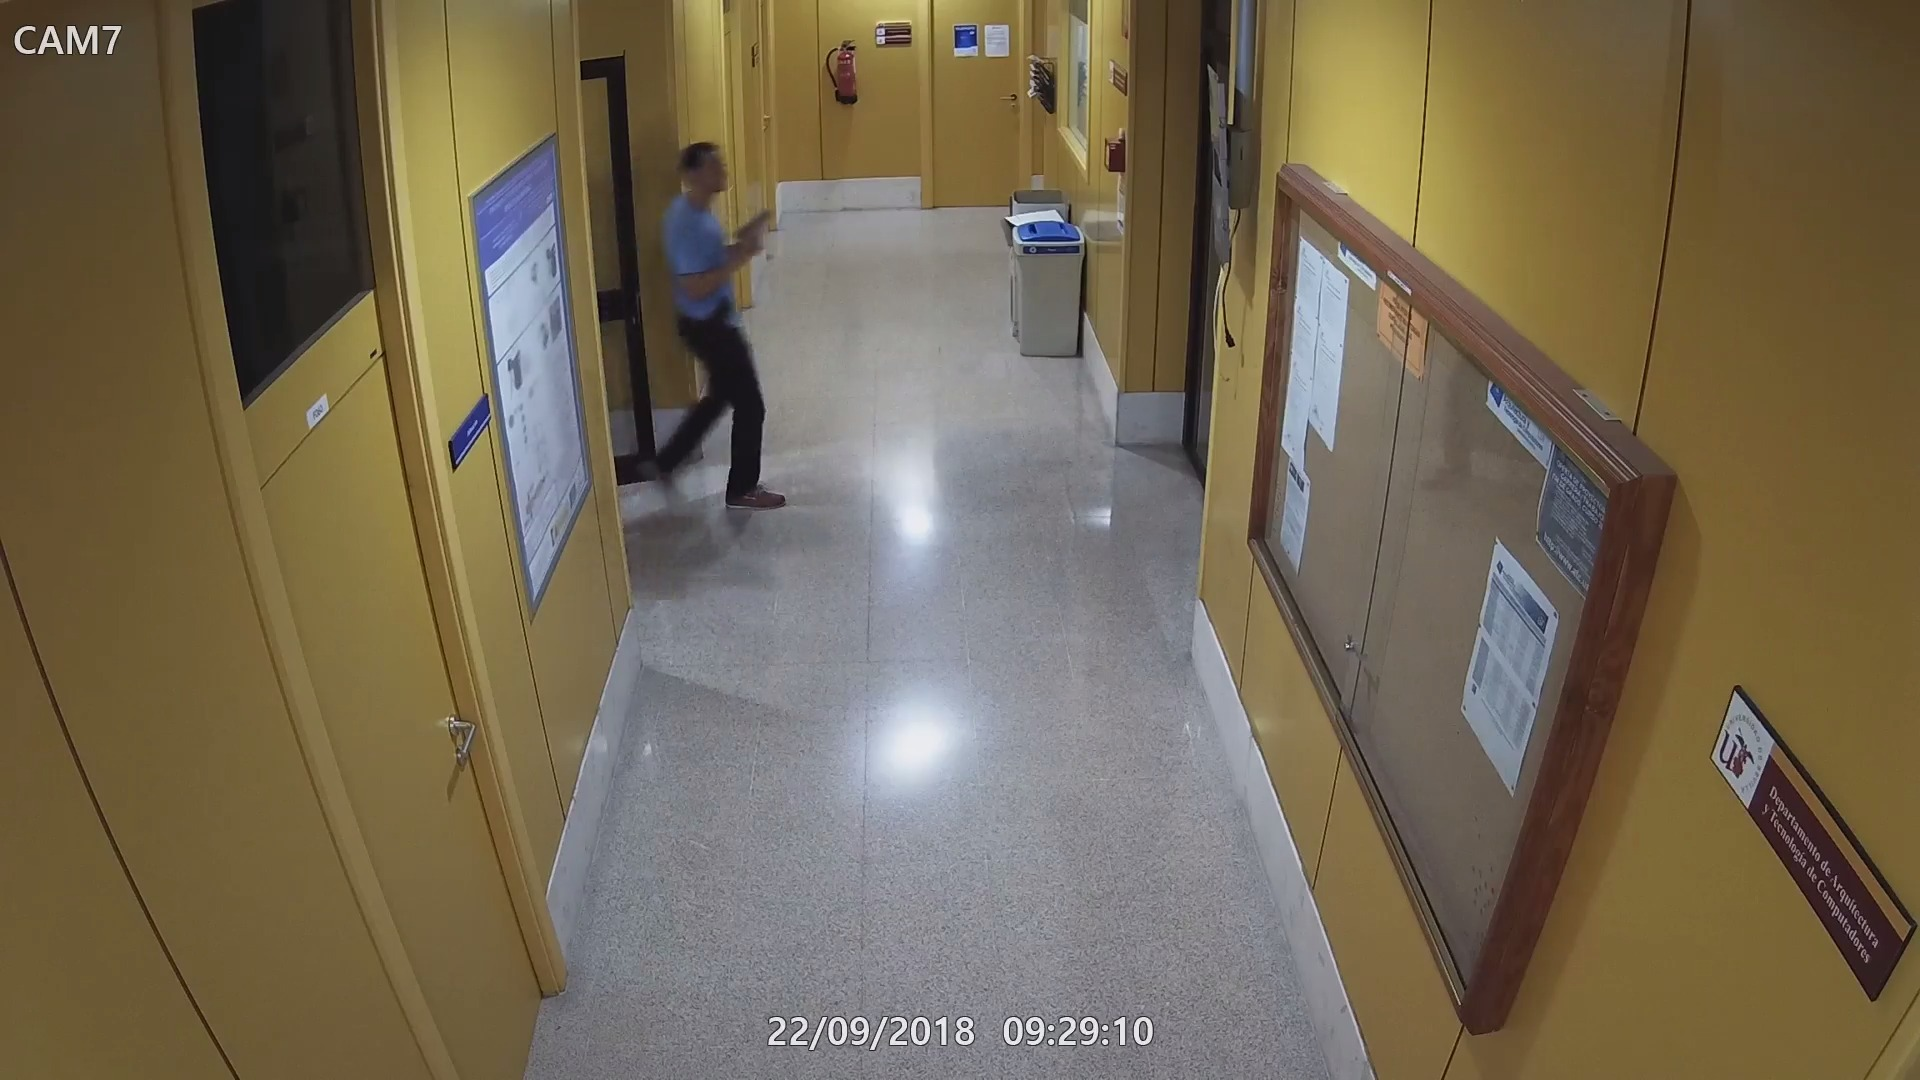pistol: (733, 207, 771, 253)
